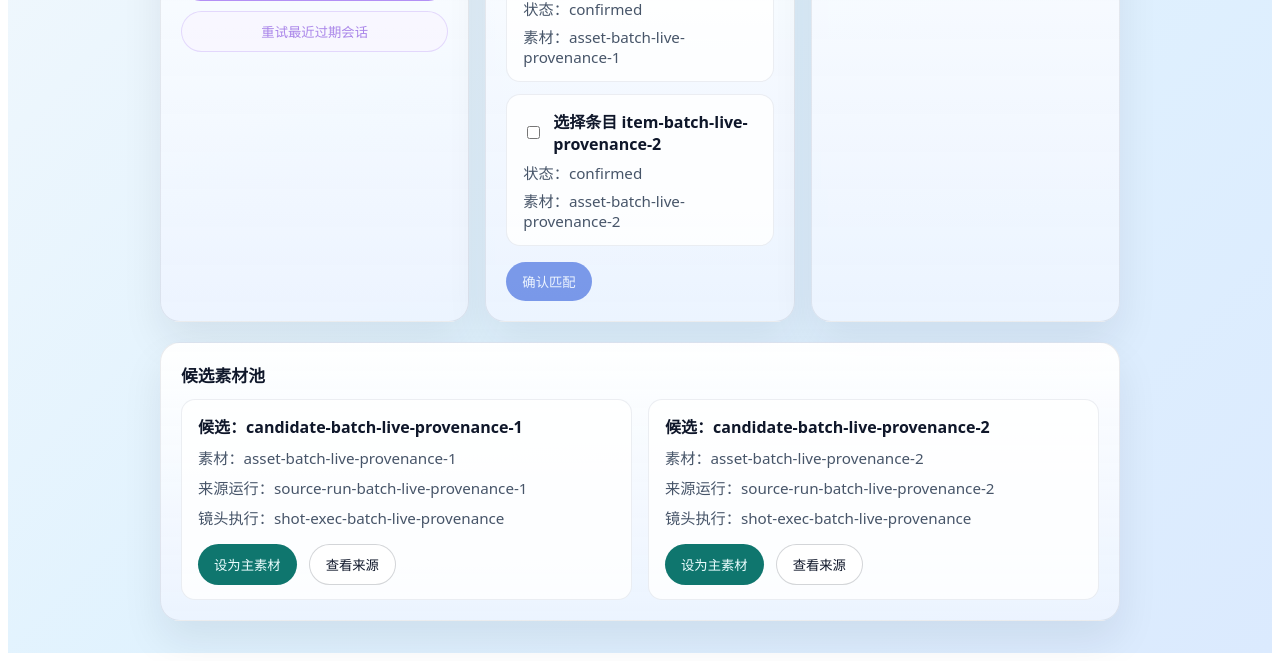
Test: App › opens import asset provenance lazily, keeps the page stable on failure, and clears dialog state on close
(page scrolled)
Click the button "查看来源" below "来源运行：source-run-batch-live-provenance-2". click: (819, 564)
box: [776,544,863,585]
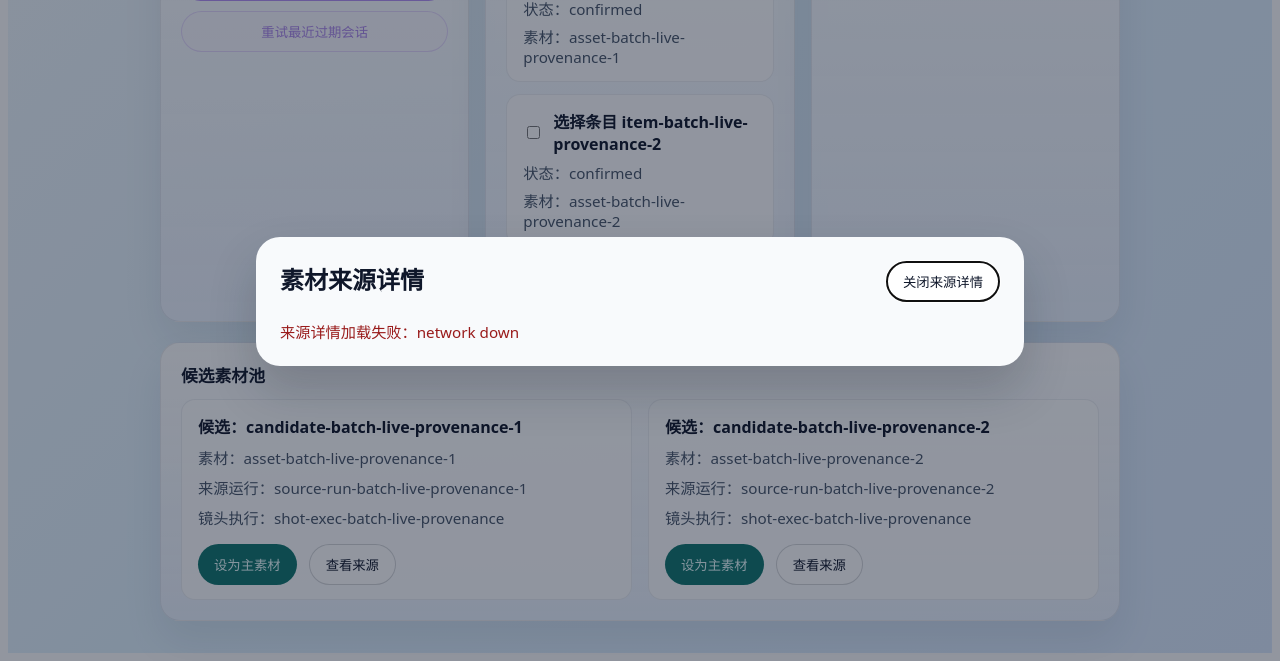
Result: the text "来源详情加载失败：network down" is shown at [280,322,519,342]
Click the button "关闭来源详情". click: (943, 281)
box: [886,260,1000,302]
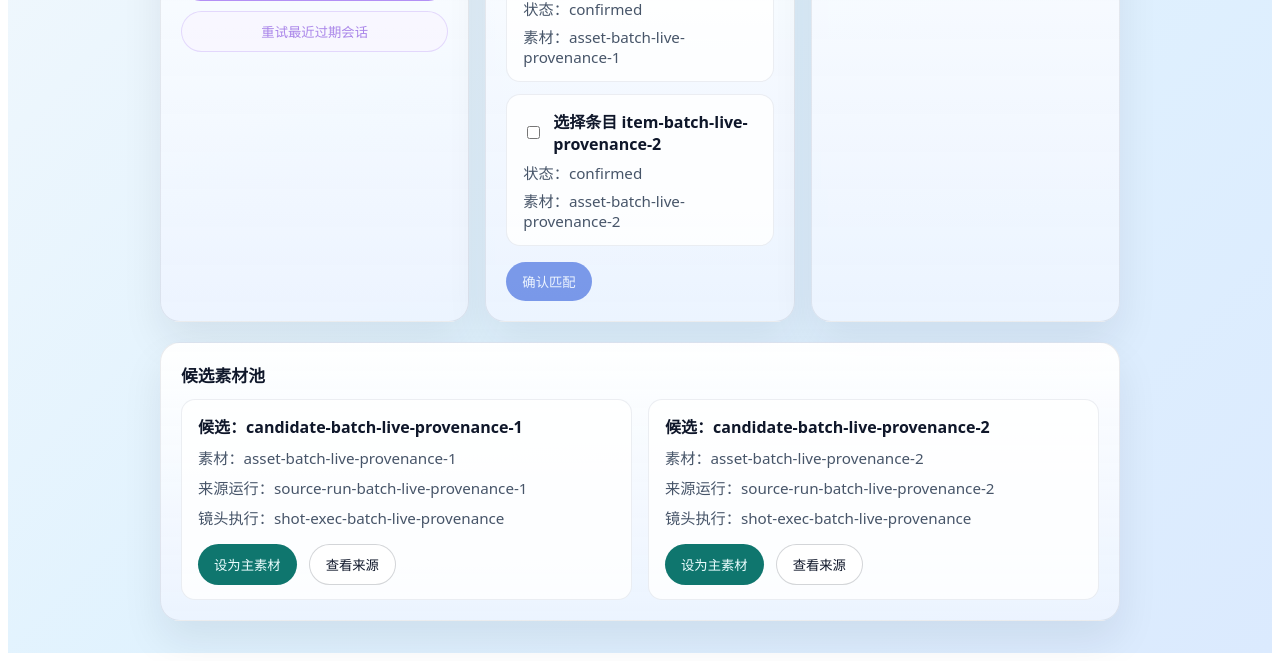
Result: the heading "素材来源详情" is gone
Click the button "查看来源" below "来源运行：source-run-batch-live-provenance-2". click: (819, 564)
box: [776,544,863,585]
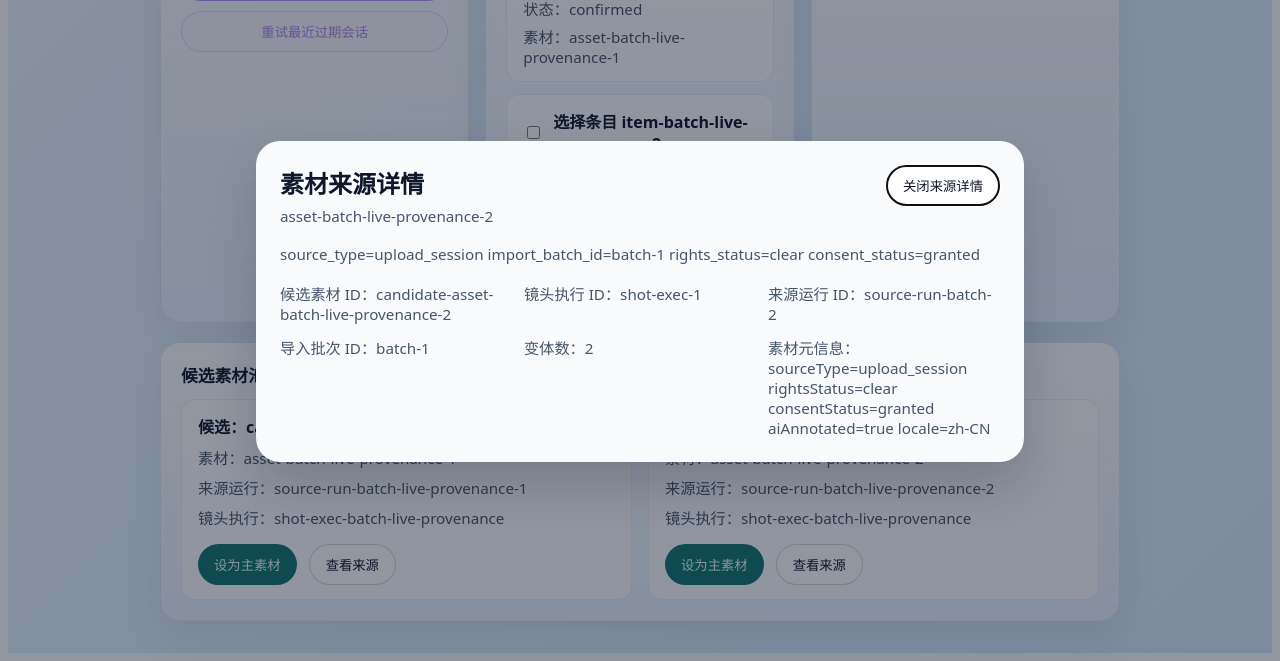
Result: the text "source_type=upload_session import_batch_id=batch-1 rights_status=clear consent_status=granted" is shown at [280,244,980,264]
Result: the text "来源运行 ID：source-run-batch-2" is shown at [768,282,1000,324]
